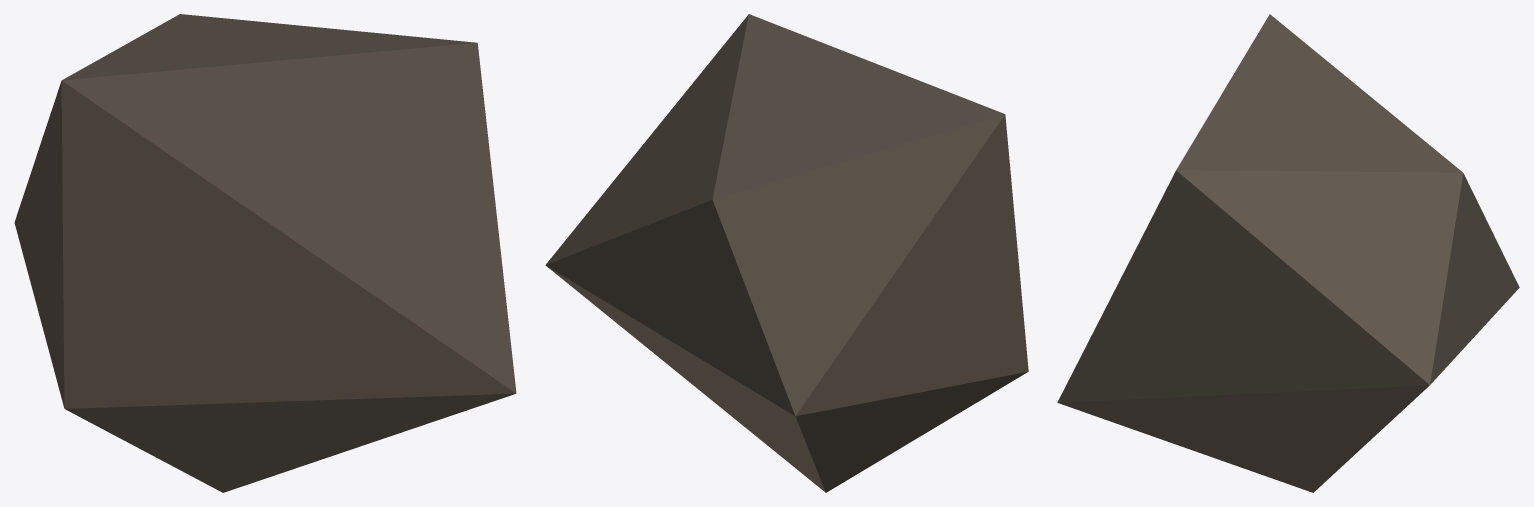
The model's file is SM_Pebble_Debris_01.fbx.
The picture shows the model from 3 angles, left to right: view 1: azimuth 30°, elevation 25°; view 2: azimuth 150°, elevation 25°; view 3: azimuth 270°, elevation 25°; orthographic projection. The views are drawn at different scales.
Parts seen in each view (by area): view 1: SM_Pebble_Debris_01_LOD0; view 2: SM_Pebble_Debris_01_LOD0; view 3: SM_Pebble_Debris_01_LOD0.
Part boxes in pixels (left/top/right/bottom): SM_Pebble_Debris_01_LOD0: left=14, top=14, right=516, bottom=492; SM_Pebble_Debris_01_LOD0: left=545, top=14, right=1028, bottom=492; SM_Pebble_Debris_01_LOD0: left=1057, top=14, right=1519, bottom=492.
Size of the model in its own units: 11.5 by 11.23 by 11.03.
Materials: 1 (1 with a texture image).
